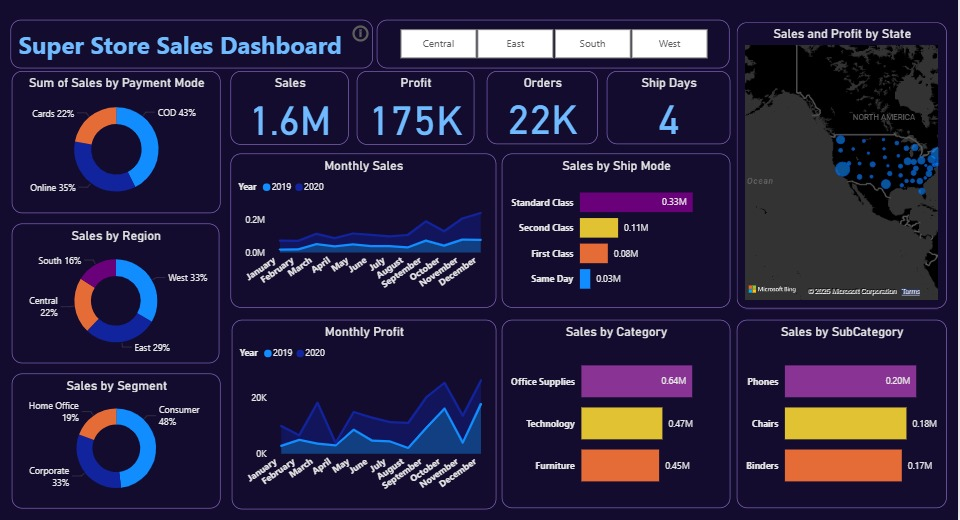

This screenshot's page, from the dashboard's own definition file:
{"tool":"powerbi","page":{"name":"Dashboard","canvas":[1280,720],"ordinal":0},"visuals":[{"type":"clusteredBarChart","title":" Sales by Category","fields":{"Category":["SuperStore_Sales_Dataset.Category"],"Y":["Sum(SuperStore_Sales_Dataset.Sales)"]},"box":[671,451.5,304.6,251.1],"z":0},{"type":"clusteredBarChart","title":" Sales by SubCategory","fields":{"Category":["SuperStore_Sales_Dataset.Sub-Category"],"Y":["Sum(SuperStore_Sales_Dataset.Sales)"]},"box":[985.3,451.5,279.9,251.1],"z":1000},{"type":"clusteredBarChart","title":" Sales by Ship Mode","fields":{"Category":["SuperStore_Sales_Dataset.Ship Mode"],"Y":["Sum(SuperStore_Sales_Dataset.Sales)"]},"box":[671,230.5,304.6,205.8],"z":2000},{"type":"stackedAreaChart","title":"Monthly Profit","fields":{"Series":["SuperStore_Sales_Dataset.Order Date.Variation.Date Hierarchy.Year"],"Category":["SuperStore_Sales_Dataset.Order Date.Variation.Date Hierarchy.Month","SuperStore_Sales_Dataset.Order Date.Variation.Date Hierarchy.Day"],"Y":["Sum(SuperStore_Sales_Dataset.Profit)"]},"box":[311.5,451.5,352.7,252.5],"z":3000},{"type":"stackedAreaChart","title":"Monthly Sales ","fields":{"Y":["Sum(SuperStore_Sales_Dataset.Sales)"],"Series":["SuperStore_Sales_Dataset.Order Date.Variation.Date Hierarchy.Year"],"Category":["SuperStore_Sales_Dataset.Order Date.Variation.Date Hierarchy.Month","SuperStore_Sales_Dataset.Order Date.Variation.Date Hierarchy.Day"]},"box":[310.1,230.5,354,205.8],"z":4000},{"type":"map","title":"Sales and  Profit by State","fields":{"Category":["SuperStore_Sales_Dataset.State"],"Size":["Sum(SuperStore_Sales_Dataset.Sales)"]},"box":[985.3,54.9,279.9,381.5],"z":5000},{"type":"donutChart","title":"Sales by Segment","fields":{"Category":["SuperStore_Sales_Dataset.Segment"],"Y":["Sum(SuperStore_Sales_Dataset.Sales)"]},"box":[17.8,522.8,278.6,179.8],"z":6000},{"type":"donutChart","fields":{"Category":["SuperStore_Sales_Dataset.Payment Mode"],"Y":["Sum(SuperStore_Sales_Dataset.Sales)"]},"box":[17.8,119.4,278.6,189.4],"z":7000},{"type":"slicer","fields":{"Values":["SuperStore_Sales_Dataset.Region"]},"box":[505,52.1,470.7,64.5],"z":8000},{"type":"textbox","box":[16.5,52.1,483,64.5],"z":9000},{"type":"card","title":"Sales","fields":{"Values":["Sum(SuperStore_Sales_Dataset.Sales)"]},"box":[310.1,119.4,157.8,98.8],"z":10000},{"type":"card","title":"Profit","fields":{"Values":["Sum(SuperStore_Sales_Dataset.Profit)"]},"box":[477.5,119.4,156.4,98.8],"z":11000},{"type":"card","title":"Orders","fields":{"Values":["Sum(SuperStore_Sales_Dataset.Quantity)"]},"box":[651.8,120.8,148.2,97.4],"z":12000},{"type":"card","title":"Ship Days","fields":{"Values":["Avg(SuperStore_Sales_Dataset.AvgDelivery)"]},"box":[811,120.8,164.7,97.4],"z":13000},{"type":"donutChart","title":"Sales by Region","fields":{"Y":["Sum(SuperStore_Sales_Dataset.Sales)"],"Category":["SuperStore_Sales_Dataset.Region"]},"box":[17.8,323.8,277.2,186.6],"z":14000},{"type":"actionButton","box":[468.3,55,31.7,30],"z":14001}]}

Visuals, with their boxes on the page's 1280x720 design canvas (x1, y1, x2, y2). These are canvas units, not pixel positions in the 960x520 screenshot, which may show the page scaled, cropped or inside an application window:
" Sales by Category" clusteredBarChart: bbox=[671, 452, 976, 703]
" Sales by SubCategory" clusteredBarChart: bbox=[985, 452, 1265, 703]
" Sales by Ship Mode" clusteredBarChart: bbox=[671, 230, 976, 436]
"Monthly Profit" stackedAreaChart: bbox=[312, 452, 664, 704]
"Monthly Sales " stackedAreaChart: bbox=[310, 230, 664, 436]
"Sales and  Profit by State" map: bbox=[985, 55, 1265, 436]
"Sales by Segment" donutChart: bbox=[18, 523, 296, 703]
donutChart - SuperStore_Sales_Dataset.Payment Mode x Sum(SuperStore_Sales_Dataset.Sales): bbox=[18, 119, 296, 309]
slicer - SuperStore_Sales_Dataset.Region: bbox=[505, 52, 976, 117]
textbox: bbox=[16, 52, 500, 117]
"Sales" card: bbox=[310, 119, 468, 218]
"Profit" card: bbox=[478, 119, 634, 218]
"Orders" card: bbox=[652, 121, 800, 218]
"Ship Days" card: bbox=[811, 121, 976, 218]
"Sales by Region" donutChart: bbox=[18, 324, 295, 510]
actionButton: bbox=[468, 55, 500, 85]
